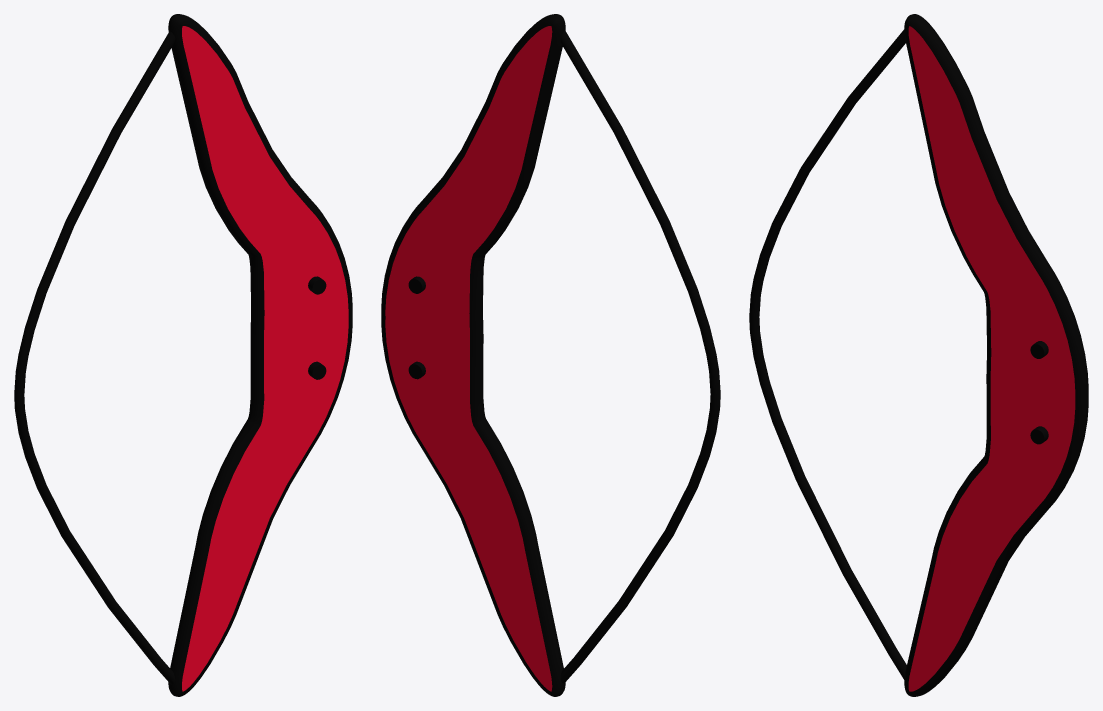
File: Arc.glb
The picture shows the model from 3 angles, left to right: view 1: azimuth 30°, elevation 25°; view 2: azimuth 150°, elevation 25°; view 3: azimuth 330°, elevation 25°; orthographic projection.
Parts seen in each view (by area): view 1: Extrude-Mat, Extrude-Mat.2, Sweep; view 2: Extrude-Mat, Extrude-Mat.2, Sweep; view 3: Extrude-Mat, Extrude-Mat.2, Sweep.
Boxes of the visible parts, bbox=[...] form: Extrude-Mat: bbox=[182, 26, 348, 691]; Extrude-Mat.2: bbox=[168, 14, 352, 696]; Sweep: bbox=[14, 31, 175, 684]; Extrude-Mat: bbox=[385, 26, 552, 691]; Extrude-Mat.2: bbox=[381, 14, 565, 696]; Sweep: bbox=[560, 30, 720, 683]; Extrude-Mat: bbox=[908, 26, 1075, 691]; Extrude-Mat.2: bbox=[904, 14, 1088, 696]; Sweep: bbox=[749, 29, 906, 679].
Size of the model in its own units: 0.8739 by 1.69 by 0.0765.
